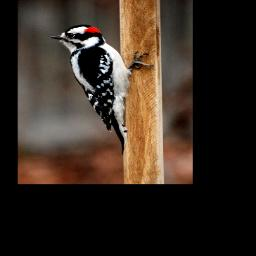Woodpecker: (50, 24, 154, 154)
